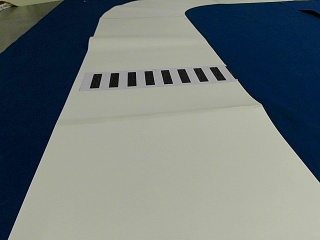crosswalk: (89, 67, 222, 87)
